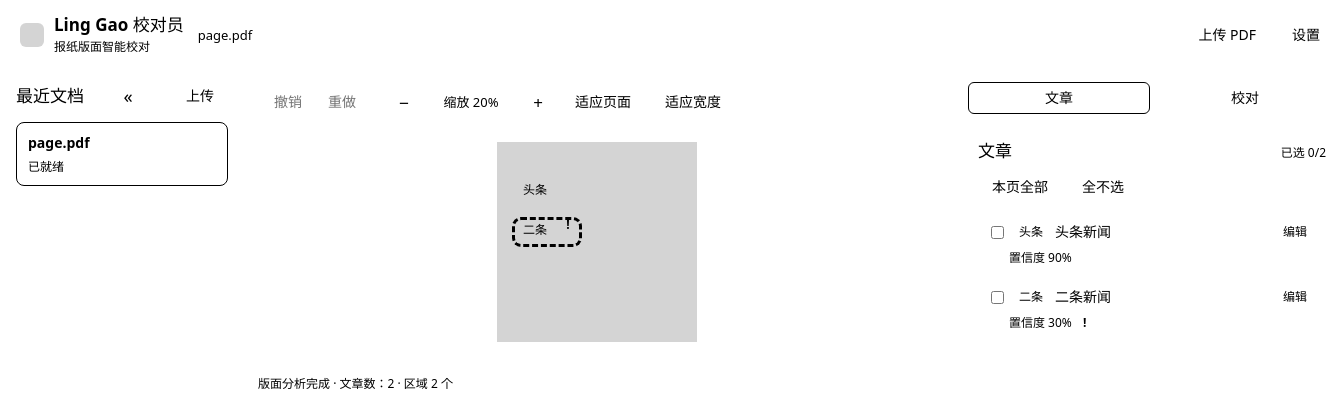
Test: App layout integration › highlights the regions of selected articles and supports select all/none
This screenshot has width=1343, height=406.
Earlier steps of the test are not shown.
Later steps or results of the test are not shown.
Click the checkbox labelled "头条 头条新闻" at (998, 232), box [991, 226, 1004, 238]
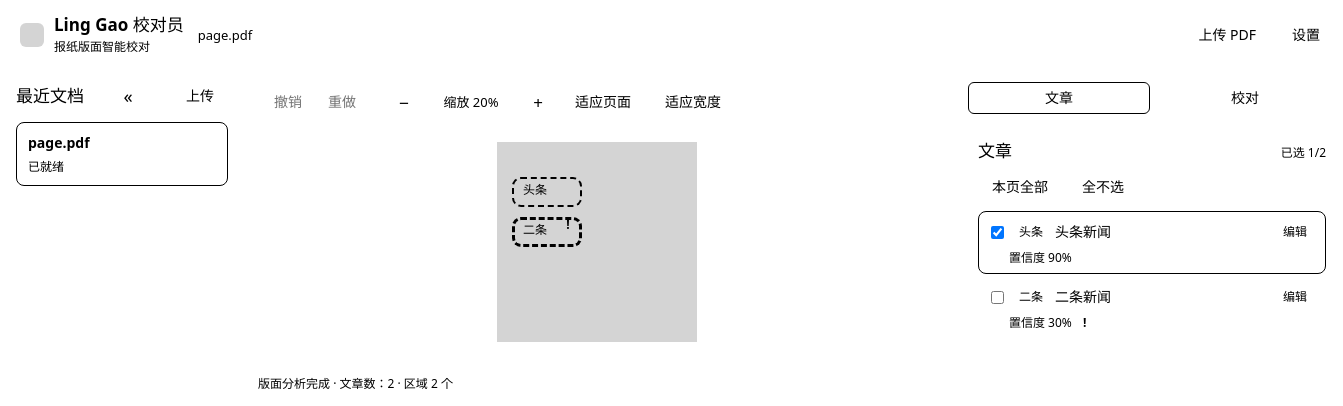
Check: the button "二条 !" is shown, box [517, 222, 577, 242]
Check: the checkbox labelled "头条 头条新闻" is checked, box [991, 226, 1004, 238]
